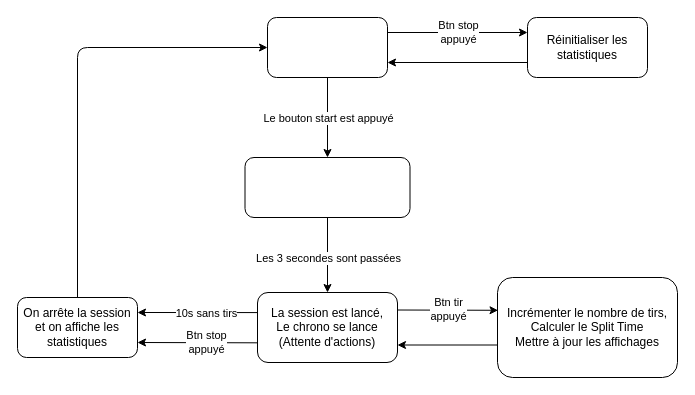
Image size: 695x395. Some labels were removed from this diagram. The centre of each missing label's shape, as x and y in pixels:
"Décompte avant la session, Affichage avec les LED" goes at point 327,187.
"État initial (Attente d'action)" goes at point 327,47.
